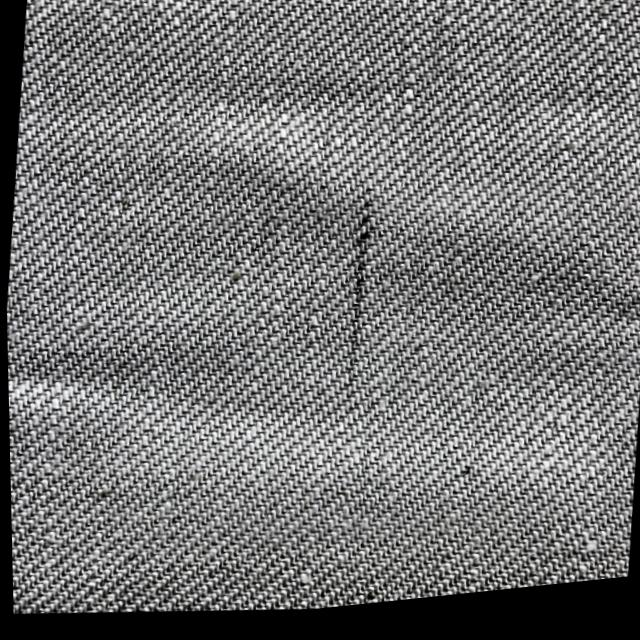Hole: (340, 204, 379, 368)
